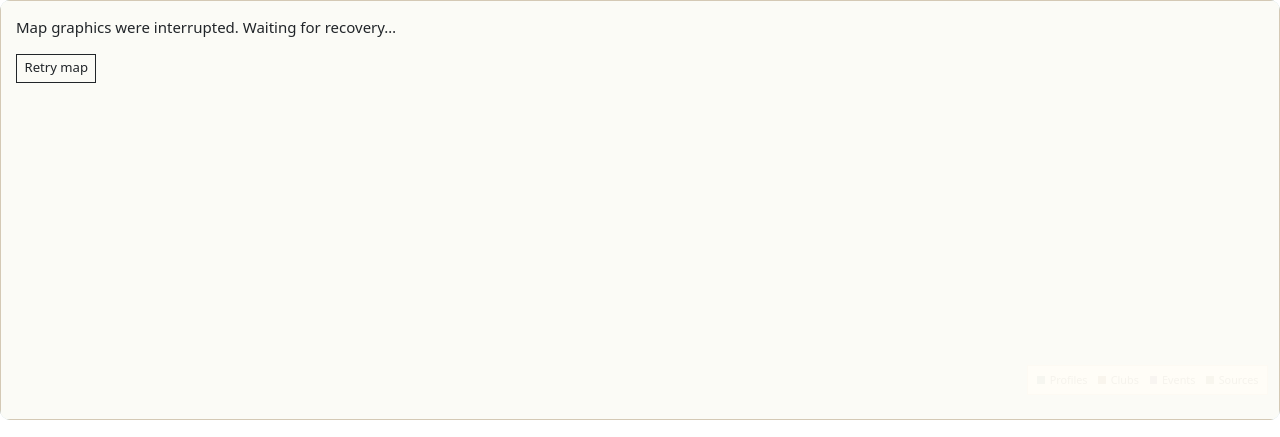
Test: context loss supports automatic recovery and manual retry releases the old map
expect the message shows "Waiting for recovery": met, box 16,17 -> 396,37
Click the button "Retry map". click: (56, 68)
box: 16,54 -> 96,83
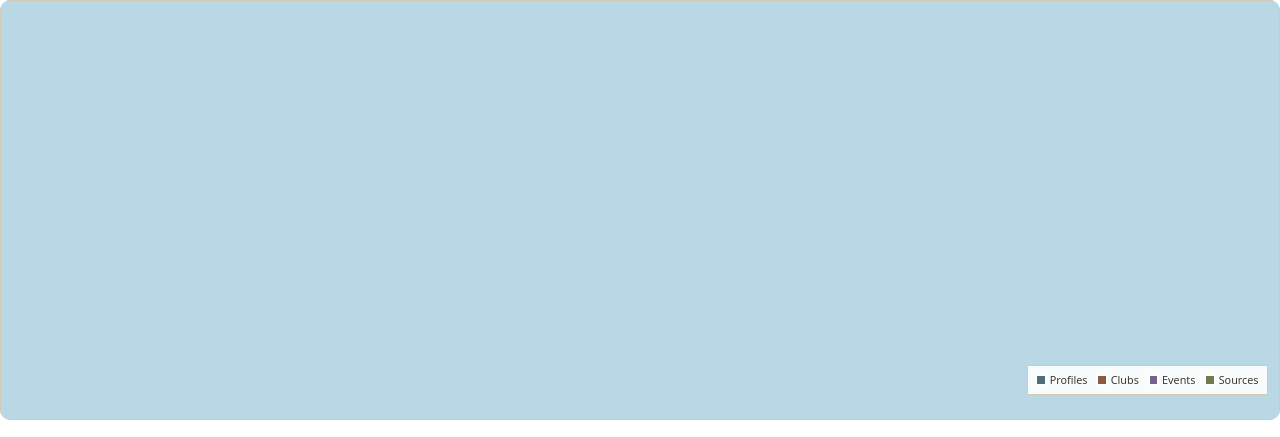
expect the message "Map graphics were interrupted. Waiting for recovery… Retry map" is gone: met
